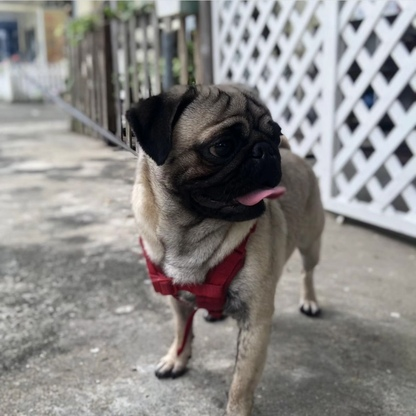Pug: (120, 77, 331, 416)
